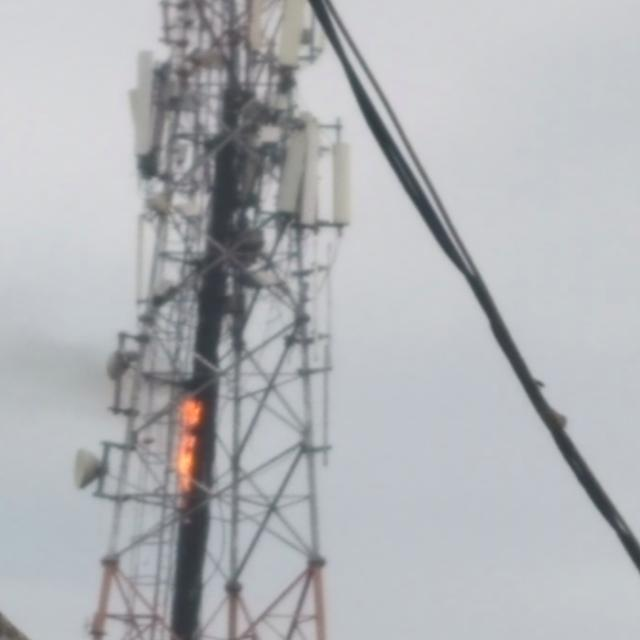firerotation: (167, 390, 210, 494)
